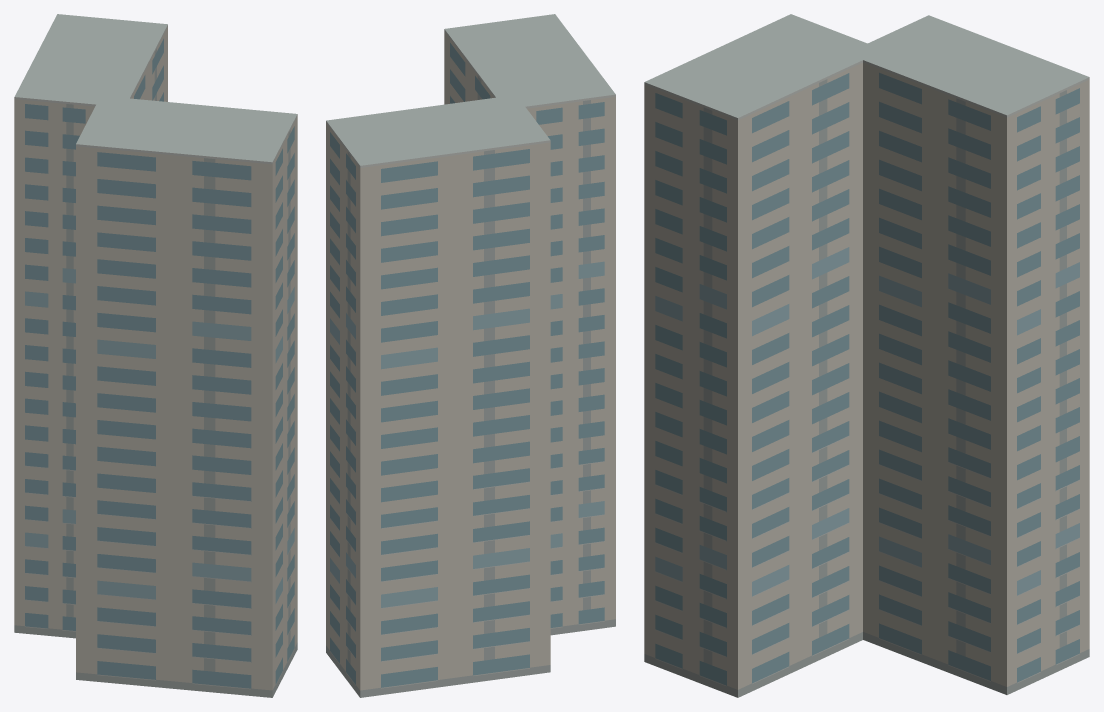
The model's file is residential-1fd19f8d-6c87-4557-badc-37721af9f42b.glb.
3 views of the same model, side by side, from view 1: azimuth 30°, elevation 25°; view 2: azimuth 150°, elevation 25°; view 3: azimuth 270°, elevation 25° (orthographic). The views are drawn at different scales.
Parts seen in each view (by area): view 1: residential-1fd19f8d-6c87-4557-badc-37721af9f42b.tmp; view 2: residential-1fd19f8d-6c87-4557-badc-37721af9f42b.tmp; view 3: residential-1fd19f8d-6c87-4557-badc-37721af9f42b.tmp.
Boxes of the visible parts, left/top/right/bottom form: residential-1fd19f8d-6c87-4557-badc-37721af9f42b.tmp: left=14, top=14, right=297, bottom=697; residential-1fd19f8d-6c87-4557-badc-37721af9f42b.tmp: left=326, top=14, right=615, bottom=697; residential-1fd19f8d-6c87-4557-badc-37721af9f42b.tmp: left=644, top=14, right=1089, bottom=697.
Size of the model in its own units: 23.51 by 61 by 42.47.
